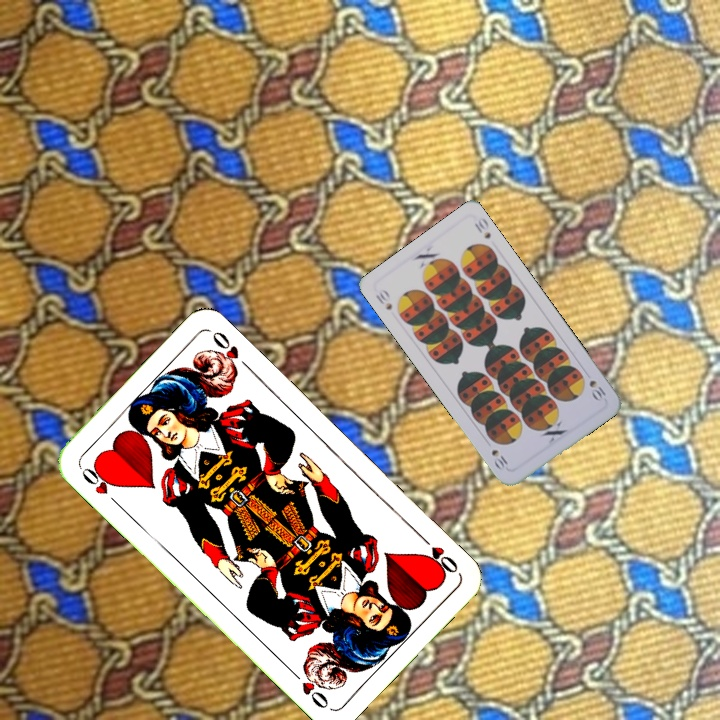HO: (76, 460, 123, 509), (415, 530, 461, 578)
S10: (585, 376, 610, 404), (371, 285, 395, 313)
